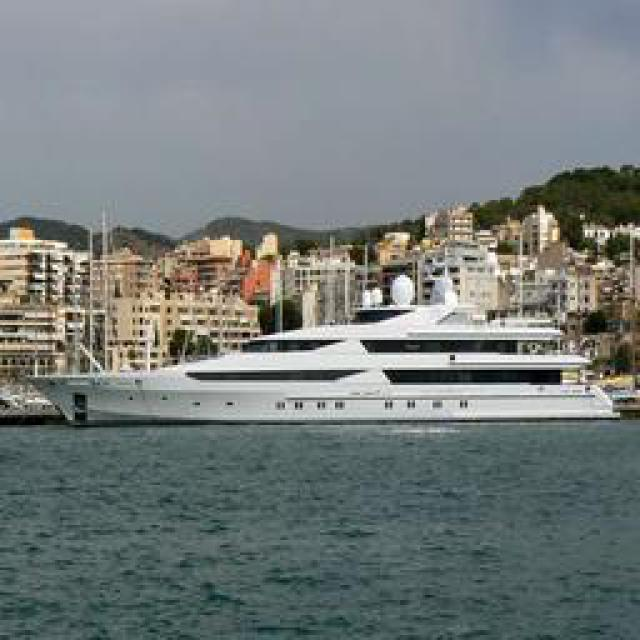Ship: (23, 290, 611, 430)
